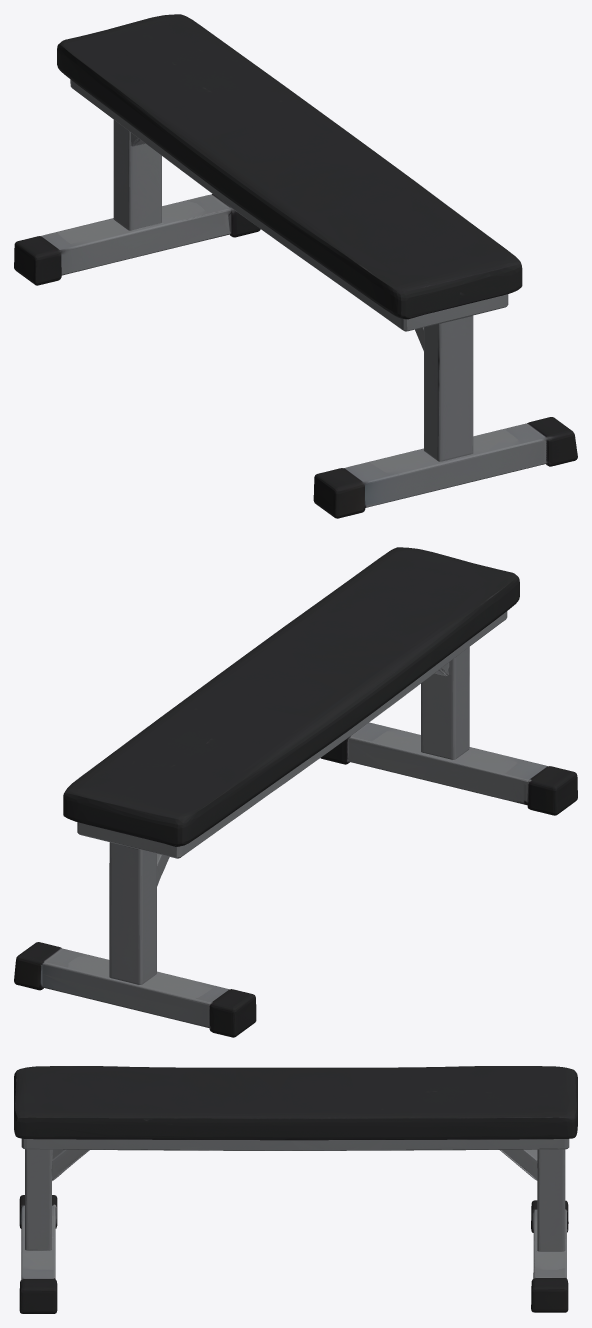
File: weight_bench.glb
3 renders of one model, top to bottom at view 1: azimuth 30°, elevation 25°; view 2: azimuth 150°, elevation 25°; view 3: azimuth 270°, elevation 25°, orthographic. The views are drawn at different scales.
Visible parts, largest first — view 1: weight_bench; view 2: weight_bench; view 3: weight_bench.
Part boxes in pixels (x1=…): weight_bench: x1=14, y1=14, x2=577, y2=518; weight_bench: x1=14, y1=547, x2=577, y2=1037; weight_bench: x1=14, y1=1066, x2=577, y2=1313.
Size of the model in its own units: 0.4882 by 0.413 by 1.2.
1 material, 1 textured.
